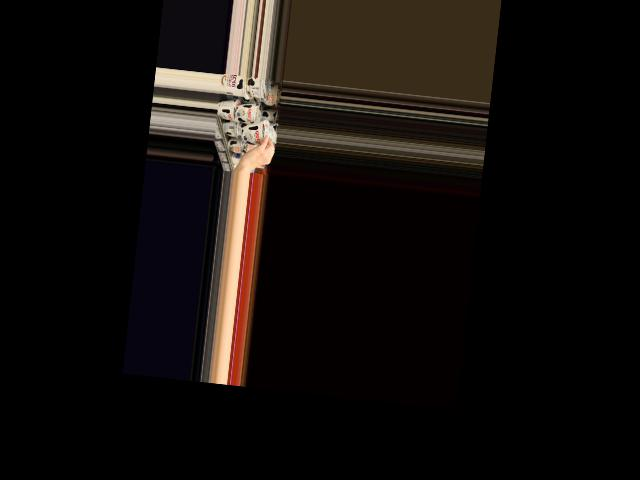cotage: (241, 117, 269, 145)
